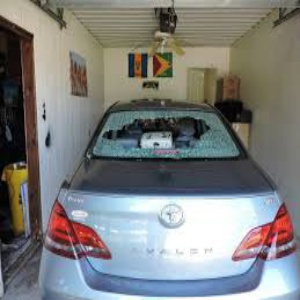bonnet: (100, 93, 212, 155)
bumper: (130, 165, 254, 241)
